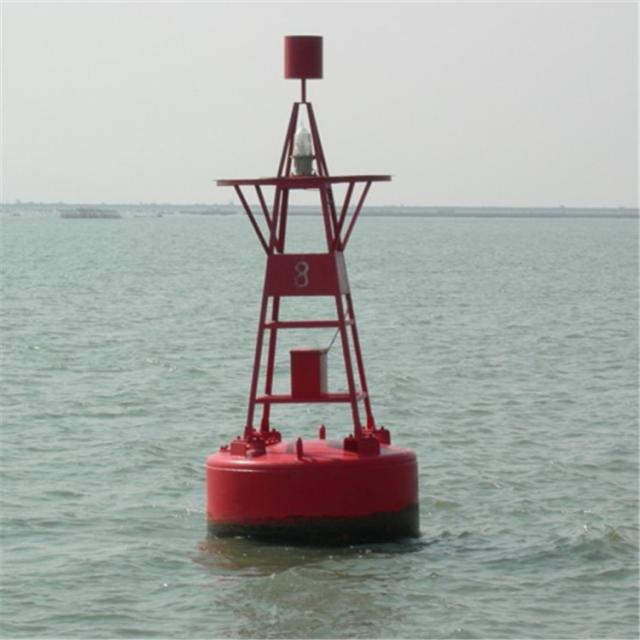buoy: (186, 22, 426, 546)
